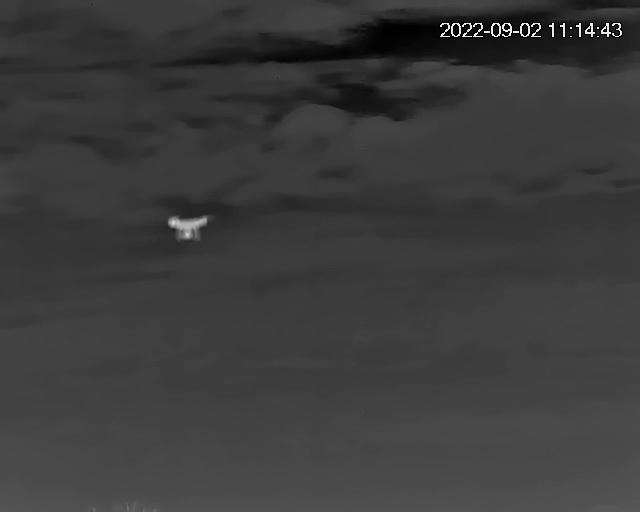DJI-Phantom: (167, 217, 215, 243)
